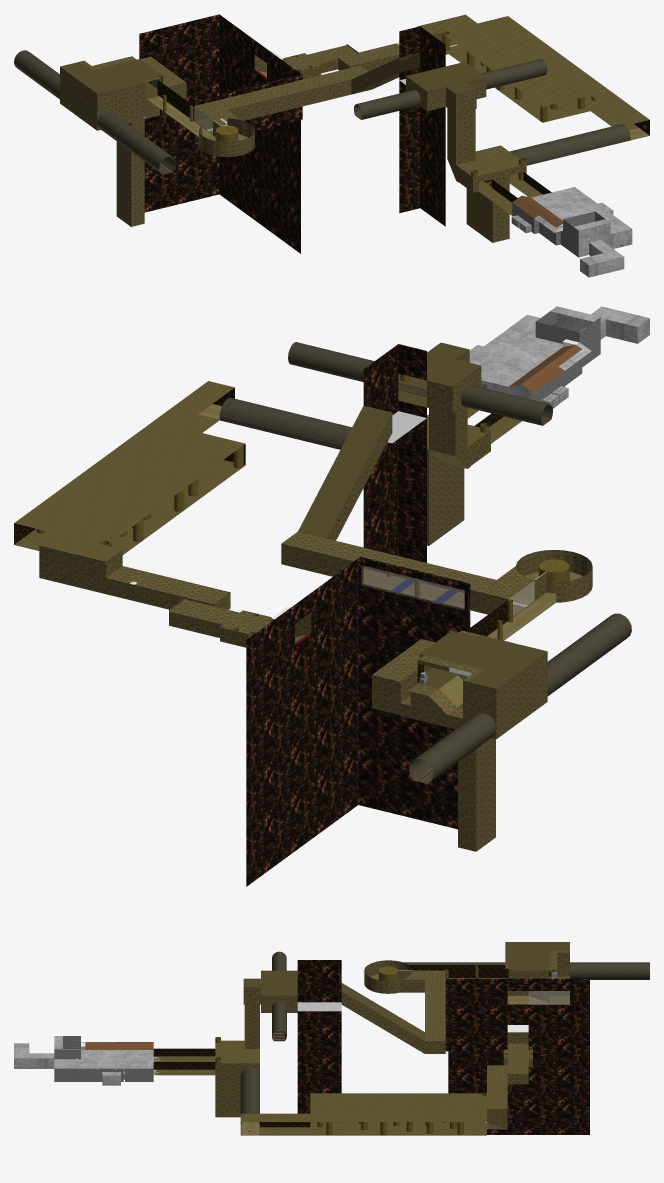
File: course.obj
The picture shows the model from 3 angles, top to bottom: view 1: azimuth 30°, elevation 25°; view 2: azimuth 150°, elevation 25°; view 3: azimuth 270°, elevation 25°; orthographic projection. The views are drawn at different scales.
Parts seen in each view (by area): view 1: TRACK_v3-SKP--Wall_rockgara1, TRACK_v3-SKP--Wall_sandstonev2, TRACK_v3-SKP--Road_floorchecker, TRACK_v3-SKP--Wall_tunnel, TRACK_v3-SKP--Wall_concretefac, TRACK_v3-SKP--Road_floorcheckerbr, TRACK_v3-SKP--Wall_concretebrick, TRACK_v3-SKP--Wall_darksandstone, TRACK_v3-SKP--Road_sandpath, TRACK_v3-SKP--wall_woodroof, TRACK_v3-SKP--Wall_column; view 2: TRACK_v3-SKP--Wall_rockgara1, TRACK_v3-SKP--Wall_sandstonev2, TRACK_v3-SKP--Road_floorchecker, TRACK_v3-SKP--Wall_tunnel, TRACK_v3-SKP--Road_floorcheckerbr, TRACK_v3-SKP--Wall_concretefac, TRACK_v3-SKP--Road_sandpath, TRACK_v3-SKP--Wall_glass, TRACK_v3-SKP--Wall_concretebrick, TRACK_v3-SKP--Wall_darksandstone, TRACK_v3-SKP--Road_sand, TRACK_v3-SKP--wall_woodroof; view 3: TRACK_v3-SKP--Wall_rockgara1, TRACK_v3-SKP--Wall_sandstonev2, TRACK_v3-SKP--Road_floorchecker, TRACK_v3-SKP--Road_floorcheckerbr, TRACK_v3-SKP--Wall_tunnel, TRACK_v3-SKP--Wall_concretefac, TRACK_v3-SKP--Wall_darksandstone, TRACK_v3-SKP--Wall_concretebrick, TRACK_v3-SKP--Road_sandpath, TRACK_v3-SKP--Wall_glass, TRACK_v3-SKP--wall_woodroof, TRACK_v3-SKP--FallBoundary.
Boxes of the visible parts, left/top/right/bottom form: TRACK_v3-SKP--Wall_rockgara1: left=139, top=14, right=445, bottom=253; TRACK_v3-SKP--Wall_sandstonev2: left=60, top=32, right=526, bottom=242; TRACK_v3-SKP--Road_floorchecker: left=194, top=14, right=649, bottom=215; TRACK_v3-SKP--Wall_tunnel: left=14, top=50, right=630, bottom=173; TRACK_v3-SKP--Wall_concretefac: left=511, top=187, right=632, bottom=277; TRACK_v3-SKP--Road_floorcheckerbr: left=60, top=53, right=485, bottom=99; TRACK_v3-SKP--Wall_concretebrick: left=512, top=202, right=604, bottom=257; TRACK_v3-SKP--Wall_darksandstone: left=157, top=80, right=649, bottom=202; TRACK_v3-SKP--Road_sandpath: left=147, top=41, right=649, bottom=174; TRACK_v3-SKP--wall_woodroof: left=512, top=195, right=562, bottom=227; TRACK_v3-SKP--Wall_column: left=157, top=55, right=311, bottom=141; TRACK_v3-SKP--Wall_rockgara1: left=246, top=344, right=470, bottom=886; TRACK_v3-SKP--Wall_sandstonev2: left=39, top=349, right=592, bottom=851; TRACK_v3-SKP--Road_floorchecker: left=14, top=381, right=525, bottom=616; TRACK_v3-SKP--Wall_tunnel: left=219, top=342, right=631, bottom=782; TRACK_v3-SKP--Road_floorcheckerbr: left=298, top=342, right=546, bottom=708; TRACK_v3-SKP--Wall_concretefac: left=469, top=306, right=649, bottom=408; TRACK_v3-SKP--Road_sandpath: left=198, top=404, right=555, bottom=783; TRACK_v3-SKP--Wall_glass: left=361, top=565, right=534, bottom=616; TRACK_v3-SKP--Wall_concretebrick: left=509, top=311, right=600, bottom=401; TRACK_v3-SKP--Wall_darksandstone: left=14, top=387, right=507, bottom=682; TRACK_v3-SKP--Road_sand: left=429, top=450, right=582, bottom=706; TRACK_v3-SKP--wall_woodroof: left=509, top=344, right=581, bottom=392; TRACK_v3-SKP--Wall_rockgara1: left=297, top=960, right=589, bottom=1134; TRACK_v3-SKP--Wall_sandstonev2: left=215, top=951, right=569, bottom=1129; TRACK_v3-SKP--Road_floorchecker: left=154, top=995, right=569, bottom=1135; TRACK_v3-SKP--Road_floorcheckerbr: left=243, top=942, right=569, bottom=1040; TRACK_v3-SKP--Wall_tunnel: left=240, top=951, right=649, bottom=1113; TRACK_v3-SKP--Wall_concretefac: left=14, top=1036, right=160, bottom=1085; TRACK_v3-SKP--Wall_darksandstone: left=153, top=965, right=551, bottom=1127; TRACK_v3-SKP--Wall_concretebrick: left=54, top=1036, right=153, bottom=1081; TRACK_v3-SKP--Road_sandpath: left=240, top=978, right=569, bottom=1135; TRACK_v3-SKP--Wall_glass: left=528, top=991, right=569, bottom=1004; TRACK_v3-SKP--wall_woodroof: left=85, top=1042, right=153, bottom=1049; TRACK_v3-SKP--FallBoundary: left=297, top=1002, right=341, bottom=1011.
Bounding box in the file's own units: 47701 × 29486 × 75691.
